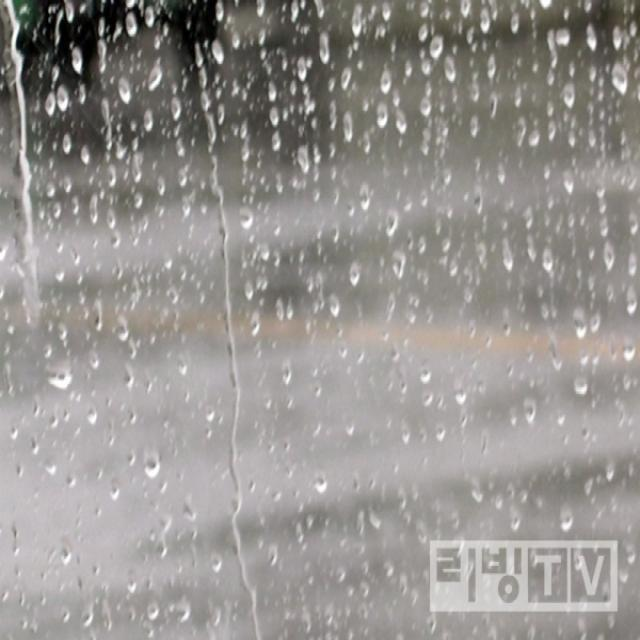raindrop: (211, 155, 261, 638), (140, 448, 183, 502), (43, 358, 82, 405), (508, 106, 536, 167), (246, 308, 275, 361), (226, 190, 258, 238), (142, 60, 172, 108), (606, 53, 633, 103), (81, 290, 108, 337), (86, 184, 108, 241), (336, 106, 362, 154), (208, 36, 234, 81), (294, 140, 320, 180), (116, 70, 140, 113), (50, 128, 74, 171), (258, 80, 290, 112), (320, 290, 346, 327), (278, 358, 300, 401), (388, 240, 410, 282), (381, 202, 402, 246), (262, 108, 290, 140), (112, 309, 136, 345), (538, 239, 558, 282), (570, 371, 594, 406), (623, 276, 640, 323), (57, 532, 76, 574), (40, 77, 56, 126), (73, 45, 89, 94), (559, 72, 578, 113), (570, 301, 588, 344), (356, 176, 374, 218), (381, 289, 403, 323), (349, 0, 366, 44), (432, 421, 455, 453), (558, 503, 579, 538), (318, 26, 332, 78), (378, 95, 400, 128), (139, 97, 158, 135), (518, 392, 538, 428), (395, 412, 413, 452), (450, 380, 474, 410), (442, 47, 460, 87), (600, 238, 618, 278), (78, 140, 99, 174), (236, 264, 258, 296), (268, 128, 286, 167), (392, 107, 412, 142), (309, 471, 332, 501), (430, 33, 448, 71), (122, 7, 140, 44), (623, 246, 640, 284), (56, 80, 72, 120), (497, 242, 514, 278), (416, 358, 432, 392), (344, 256, 362, 286), (146, 596, 162, 626), (104, 160, 120, 190), (62, 0, 78, 26), (249, 0, 268, 21), (212, 0, 225, 28)
